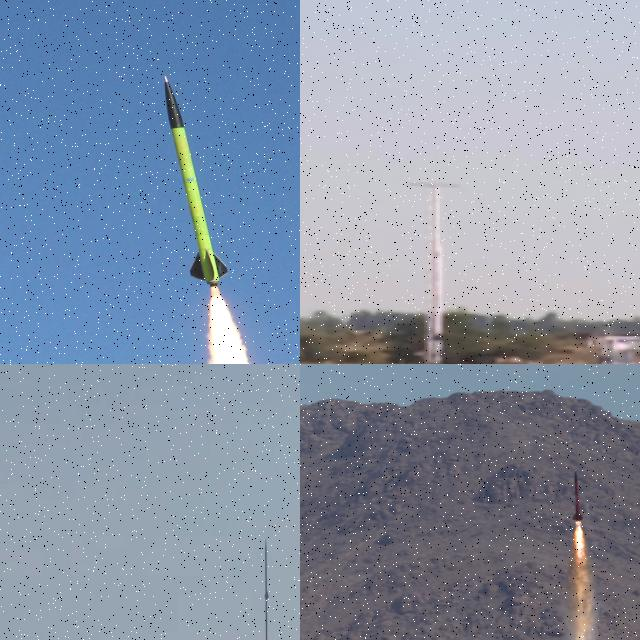Rocket: (162, 75, 230, 286), (431, 244, 445, 340), (571, 469, 584, 522), (263, 537, 269, 640)
